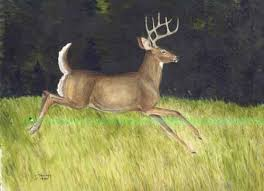Deer: (23, 12, 210, 155)
